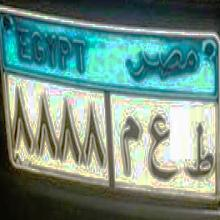8: (10, 84, 33, 159), (57, 98, 80, 166), (83, 104, 105, 174), (34, 94, 56, 164)
Taa: (184, 122, 215, 188)
ain: (145, 112, 179, 187)
meem: (119, 110, 142, 180)
